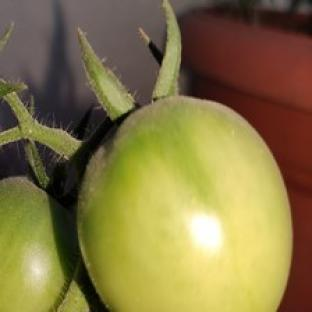Tomato: (78, 97, 292, 311), (0, 177, 76, 311)
